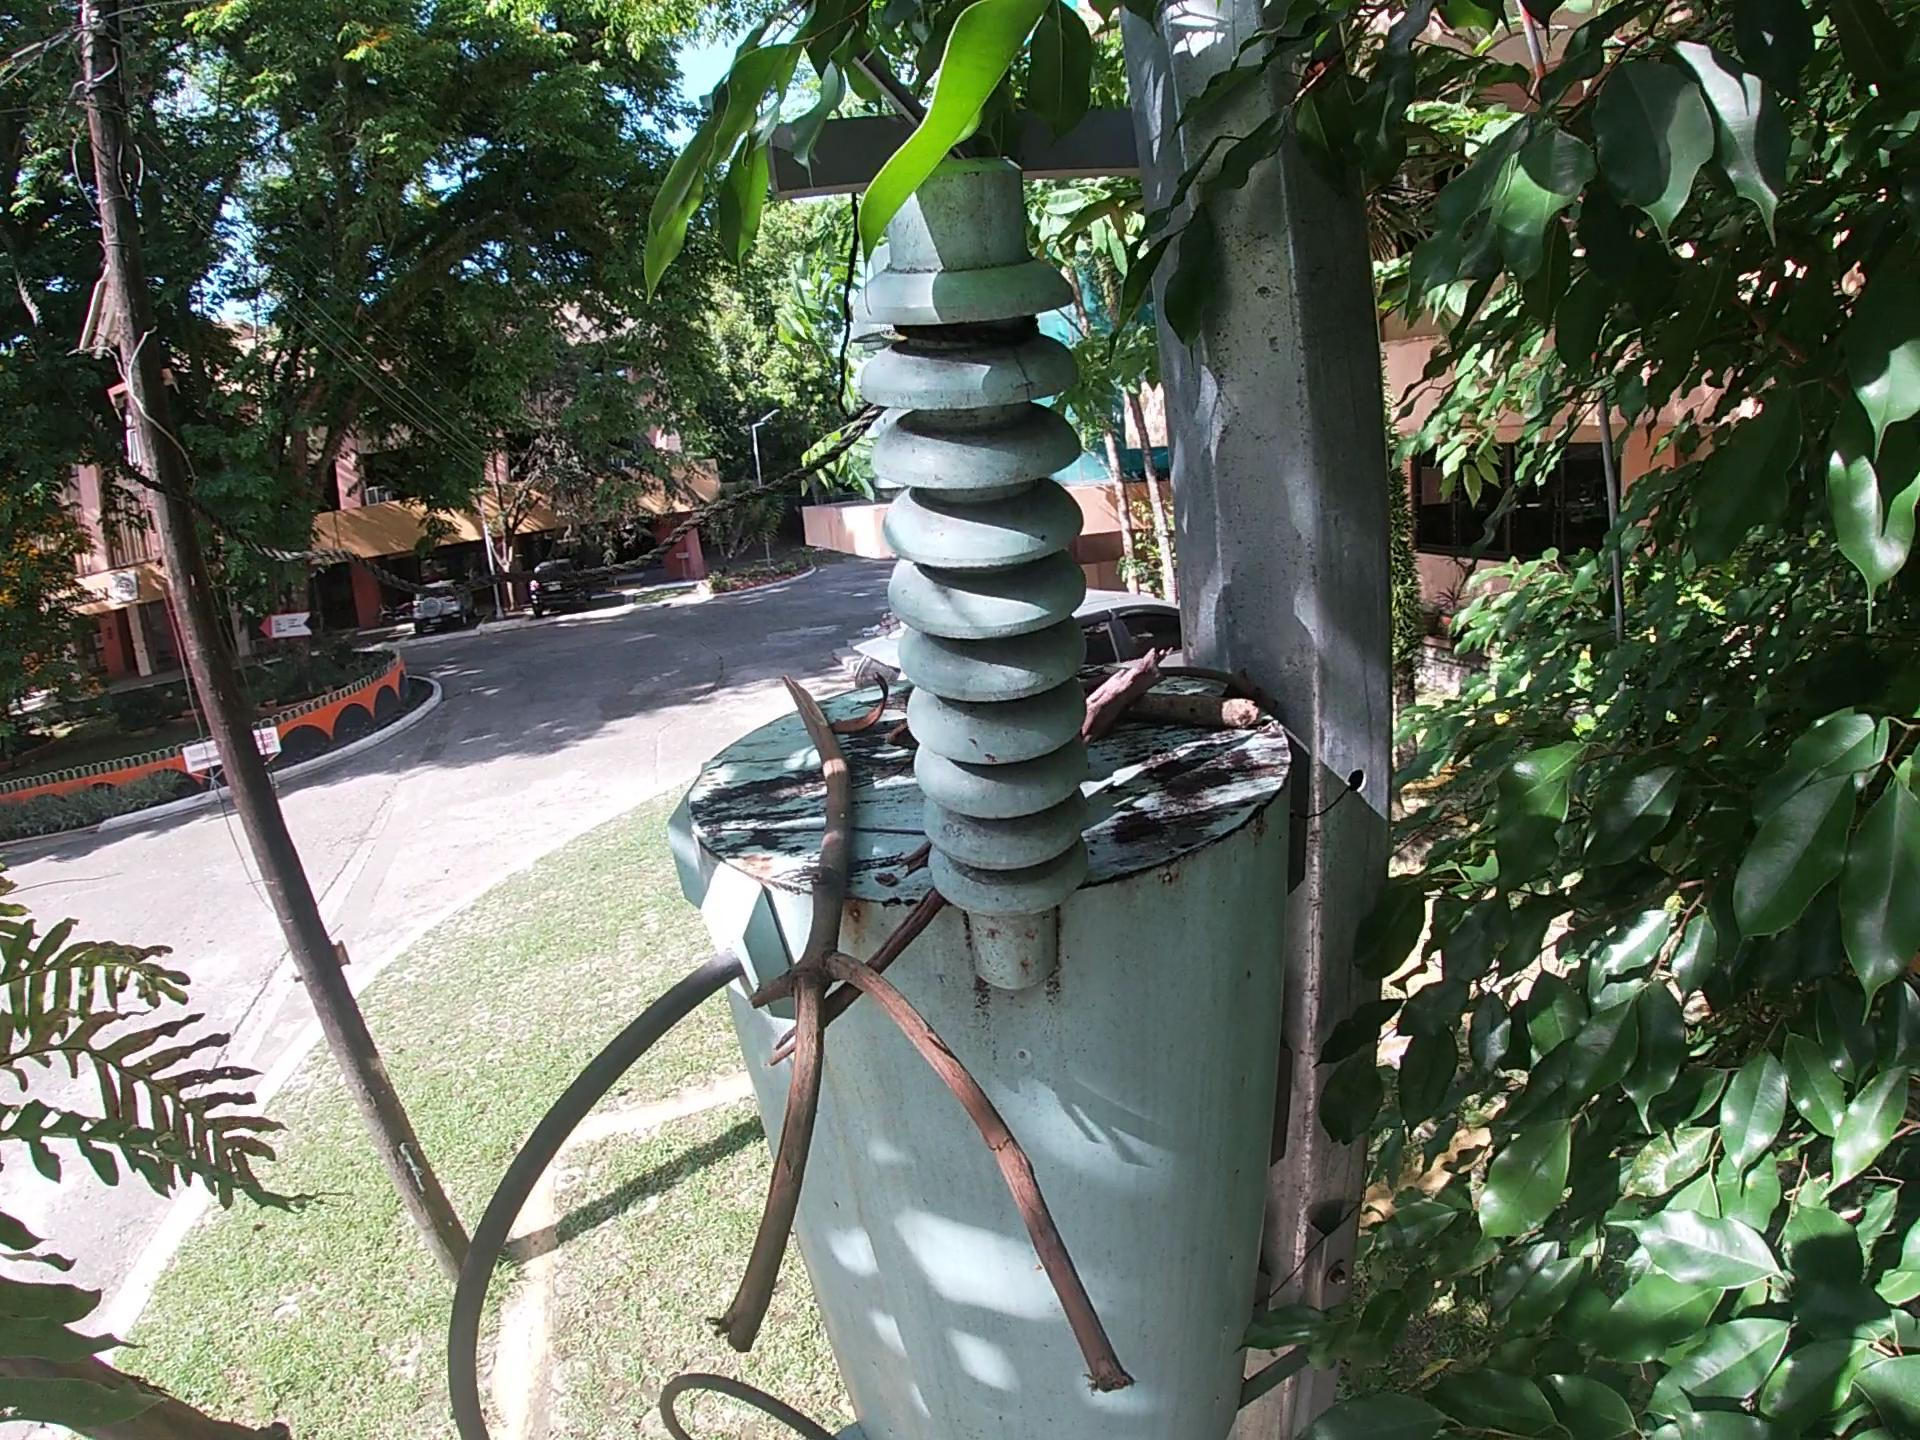mahogany fruit: (825, 670, 893, 740)
tree branch: (691, 670, 1146, 1401), (765, 880, 958, 1068), (1073, 643, 1178, 750), (1155, 655, 1287, 715), (1117, 688, 1265, 734)
